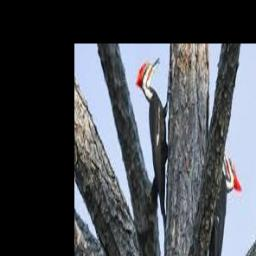Woodpecker: (137, 58, 171, 229), (207, 141, 242, 256)
